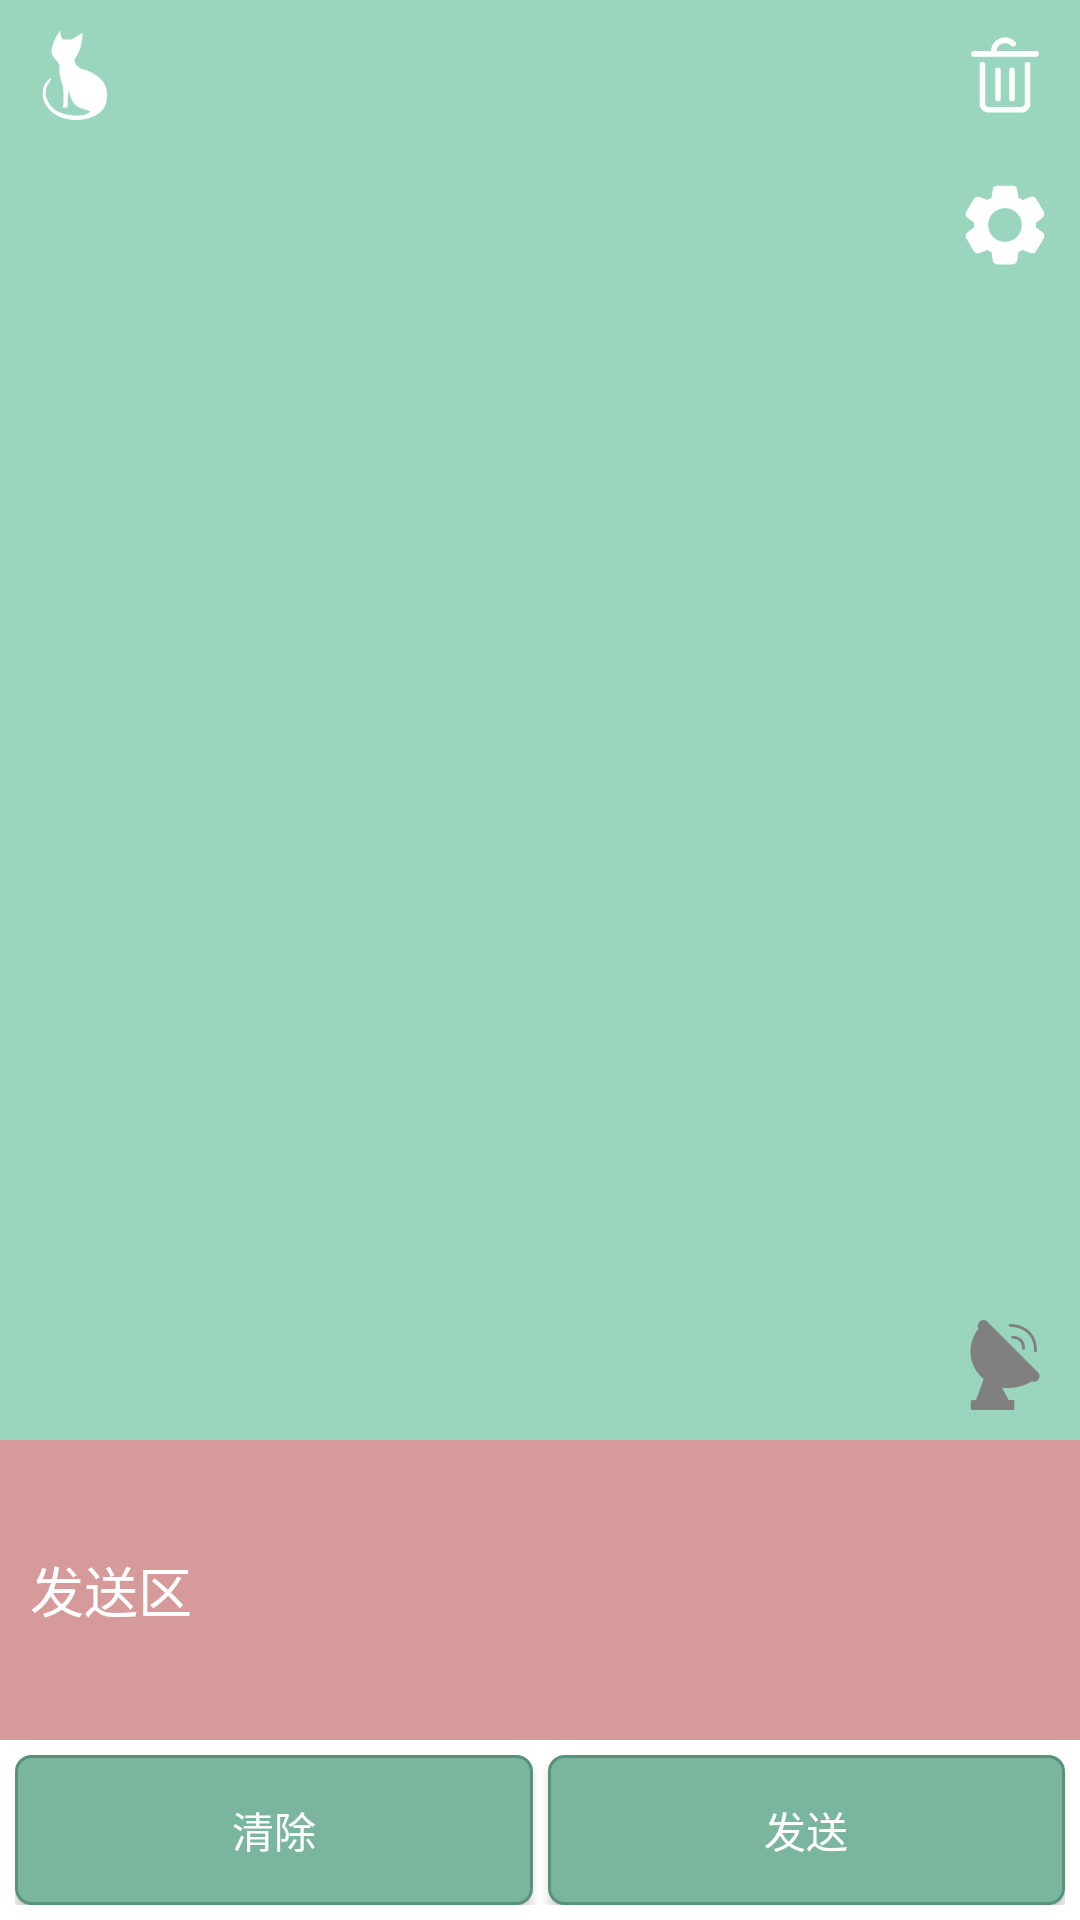

Point at icon controls on the screen. Image size 1080×1920, points as (x=x, y=y).
cat: (x=74, y=75)
delete: (x=1005, y=75)
receiver off: (x=1005, y=1365)
setting: (x=1005, y=225)
